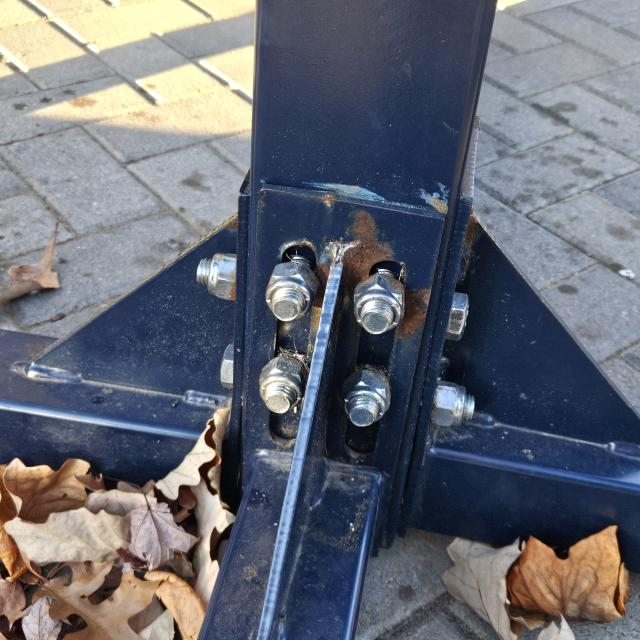Filiform Corrosion: (343, 209, 398, 318), (397, 283, 434, 337), (312, 258, 331, 321)
